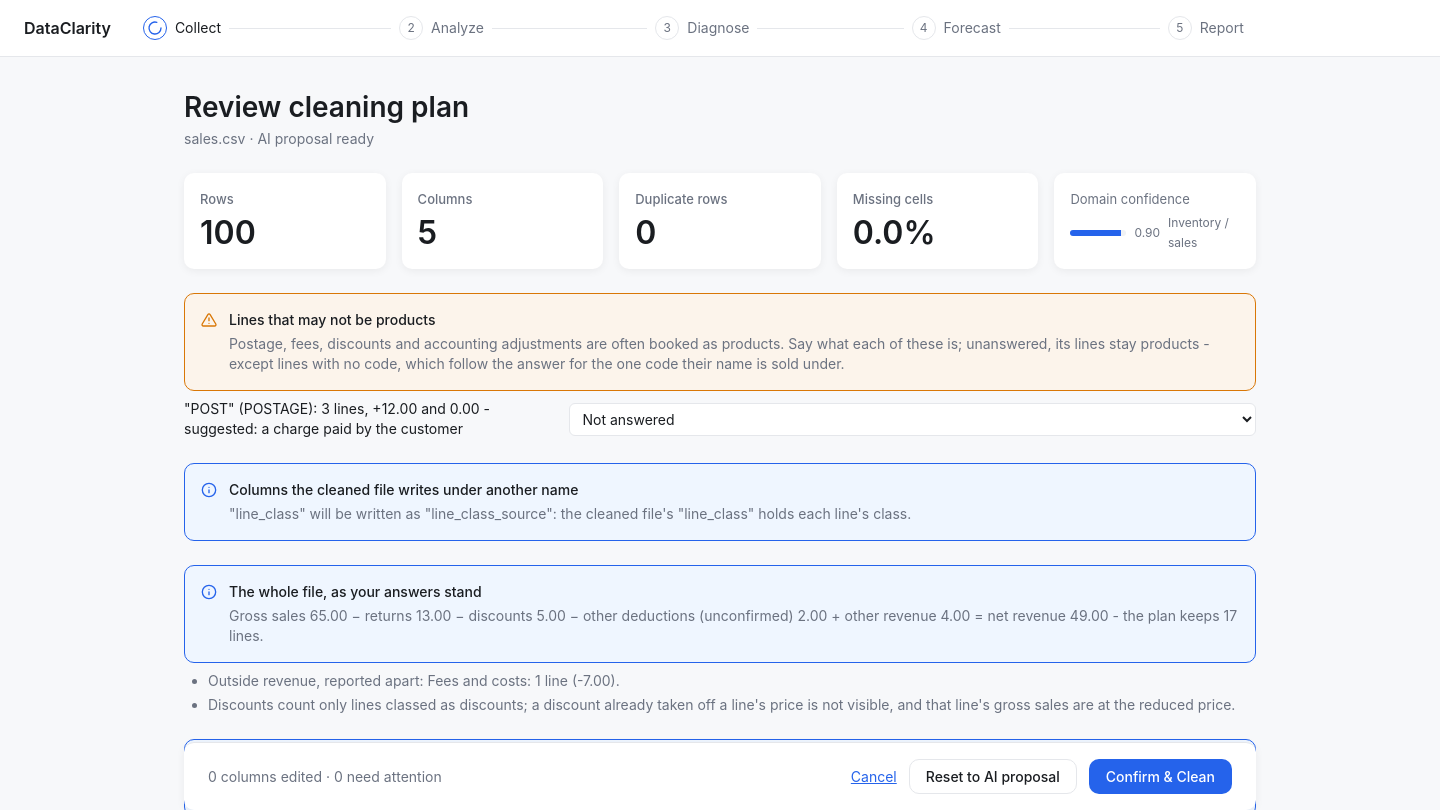
Test case: ReviewPage: the whole file as the answers stand (2E-t3) › keeps the earlier answer after a failed ask, marked, and says why (review 2 #5, #6)
Expected: the text "= net revenue 49.00" is shown, [229,607,1109,624]
Select "A fee or cost (leaves revenue)" in the dropdown named "What is \"POST\"?": (913, 419) [570,402,1256,436]
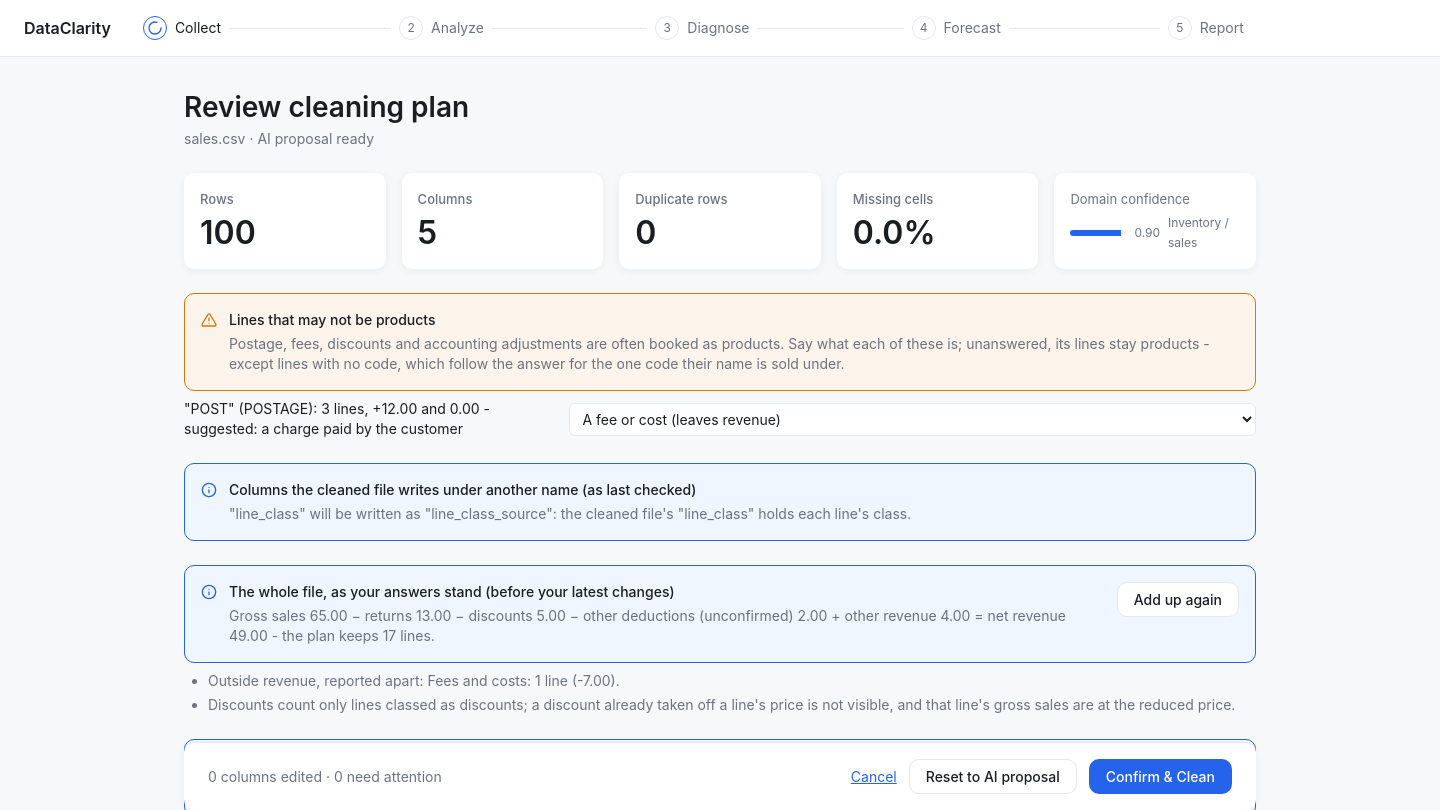
Click the button "Add up again": (1178, 600) [1117,582,1239,617]
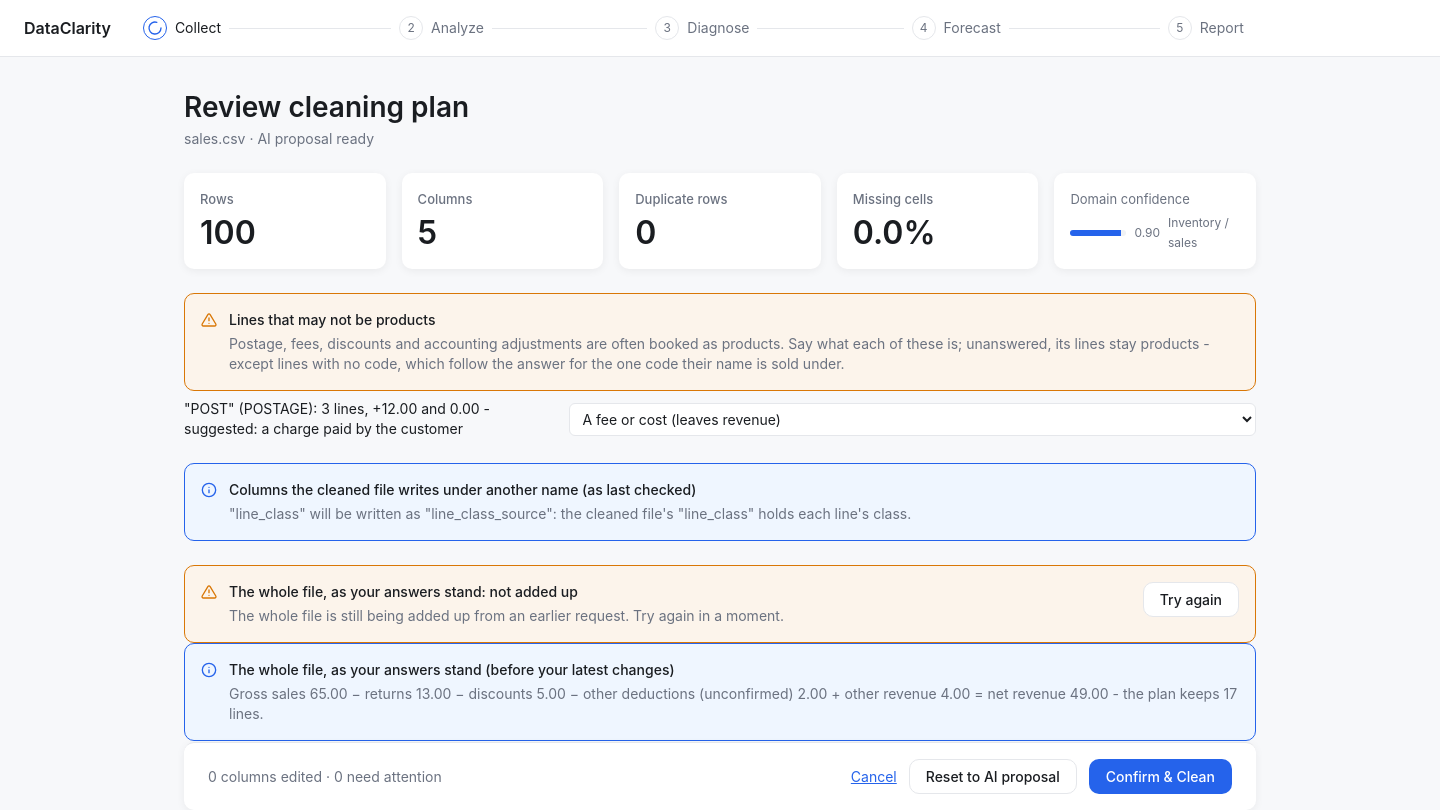
Result: the text "Columns the cleaned file writes under another name (as last checked)" is shown at [229,481,696,498]
Result: the text "The whole file, as your answers stand (before your latest changes)" is shown at [229,661,675,678]
Result: the text "still being added up from an earlier request" is shown at [229,607,784,624]
